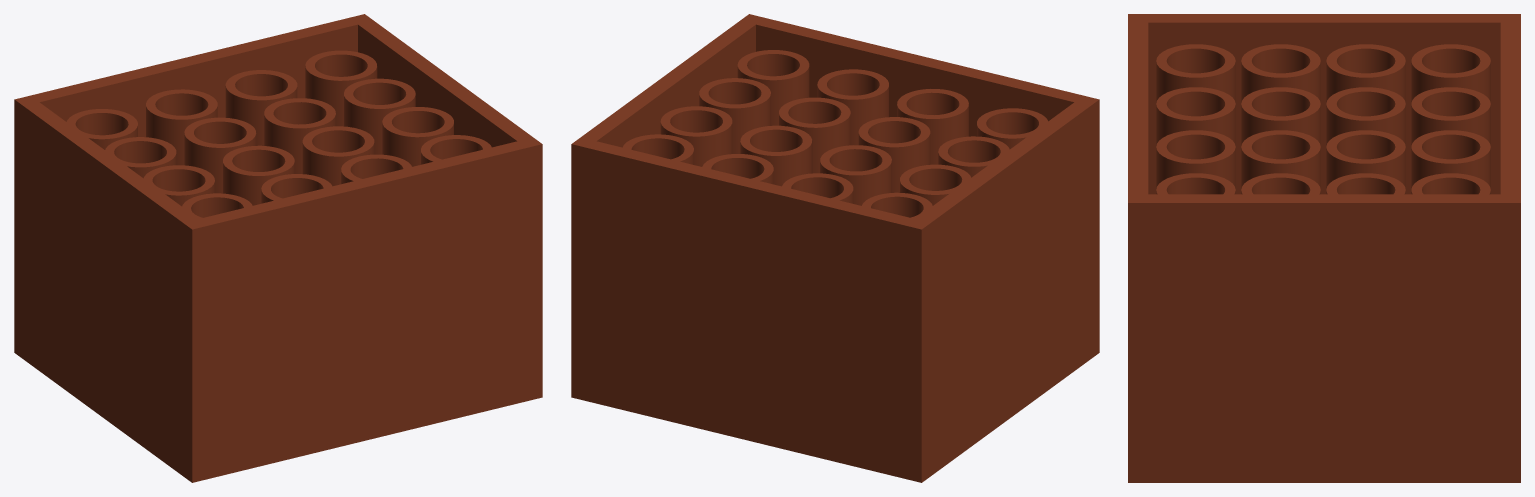
The model's file is FireworksBox.fbx.
3 views of the same model, side by side, from view 1: azimuth 30°, elevation 25°; view 2: azimuth 150°, elevation 25°; view 3: azimuth 270°, elevation 25° (orthographic). The views are drawn at different scales.
Parts seen in each view (by area): view 1: FireworksBox; view 2: FireworksBox; view 3: FireworksBox.
Boxes of the visible parts, bbox=[...] form: FireworksBox: bbox=[14, 14, 542, 482]; FireworksBox: bbox=[571, 14, 1099, 482]; FireworksBox: bbox=[1128, 14, 1520, 482].
Size of the model in its own units: 33.52 by 23.17 by 29.46.
